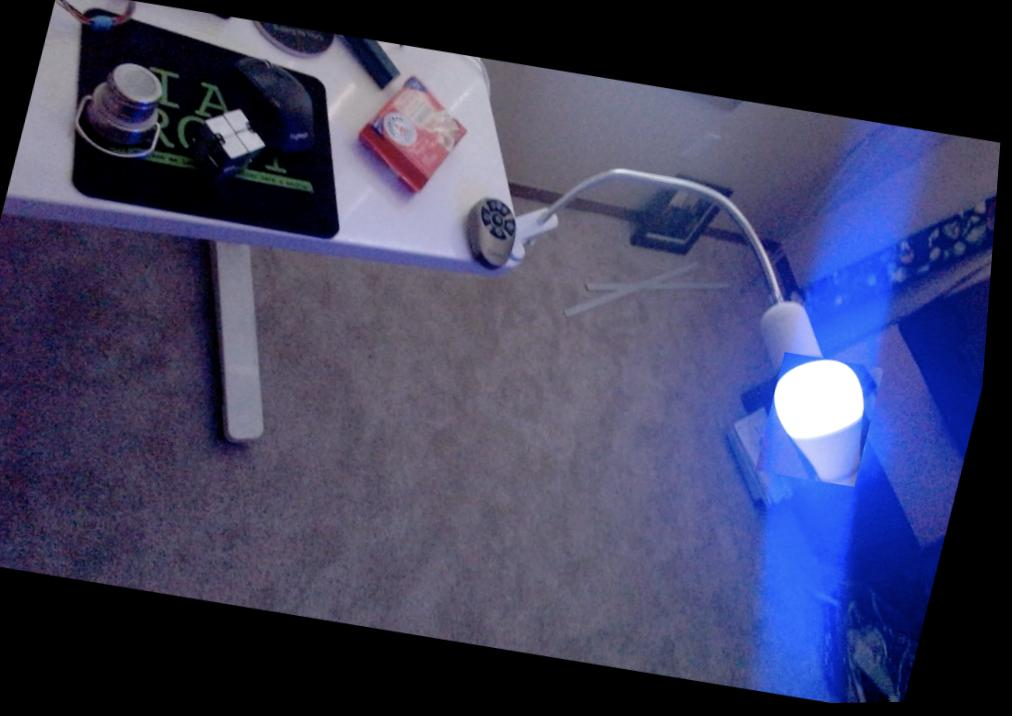TubeLight: (762, 353, 891, 491)
